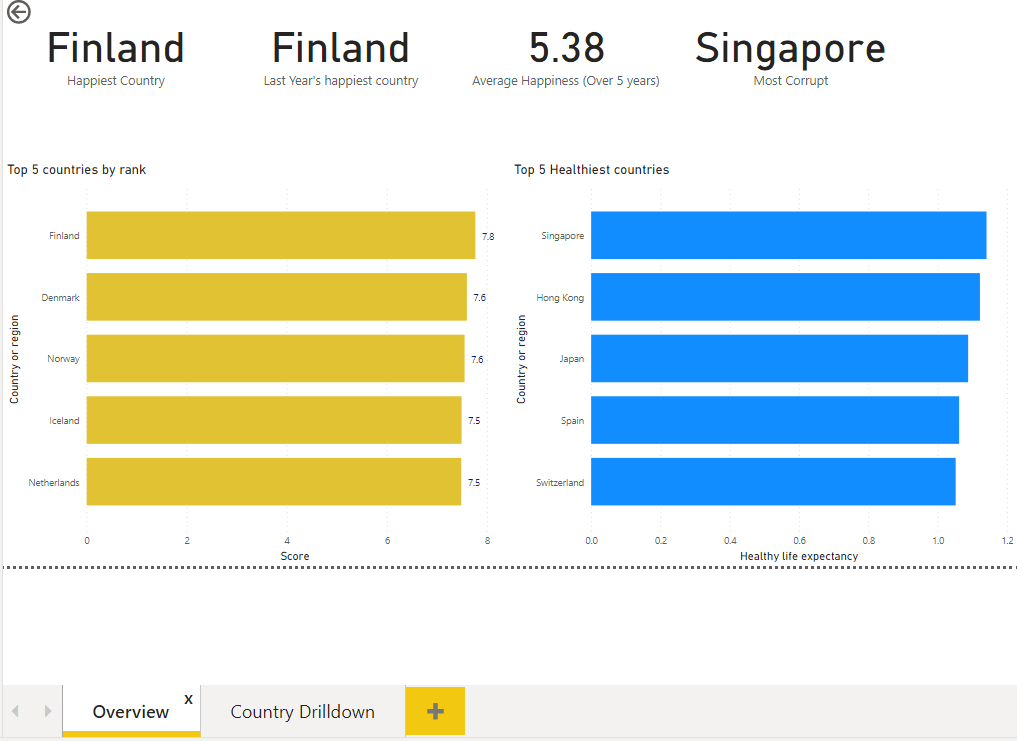

What the dashboard file says about the page in this screenshot:
{"tool":"powerbi","page":{"name":"Overview","canvas":[1280,720],"ordinal":0},"visuals":[{"type":"card","fields":{"Values":["2019.Happiest Country"]},"box":[0,0,284,136.3],"z":0},{"type":"card","fields":{"Values":["2019.Most Corrupt"]},"box":[852.1,0,284,136.3],"z":1000},{"type":"actionButton","box":[0,0,100,40],"z":2000},{"type":"card","fields":{"Values":["2019.Average Happiness"]},"box":[568,0,284,136.3],"z":3000},{"type":"card","fields":{"Values":["2019.Last Year's happiest country"]},"box":[284,0,284,136.3],"z":4000},{"type":"clusteredBarChart","title":"Top 5 countries by rank","fields":{"Category":["2019.Country or region"],"Y":["Sum(2019.Score)"]},"box":[0,208.3,640,511.2],"z":5000},{"type":"clusteredBarChart","title":"Top 5 Healthiest countries","fields":{"Category":["2019.Country or region"],"Y":["Sum(2019.Healthy life expectancy)"]},"box":[640,208.3,640,511.2],"z":6000}]}

Visuals, with their boxes on the page's 1280x720 design canvas (x1, y1, x2, y2). These are canvas units, not pixel positions in the 1017x741 screenshot, which may show the page scaled, cropped or inside an application window:
card - 2019.Happiest Country: box=[0, 0, 284, 136]
card - 2019.Most Corrupt: box=[852, 0, 1136, 136]
actionButton: box=[0, 0, 100, 40]
card - 2019.Average Happiness: box=[568, 0, 852, 136]
card - 2019.Last Year's happiest country: box=[284, 0, 568, 136]
"Top 5 countries by rank" clusteredBarChart: box=[0, 208, 640, 720]
"Top 5 Healthiest countries" clusteredBarChart: box=[640, 208, 1280, 720]
